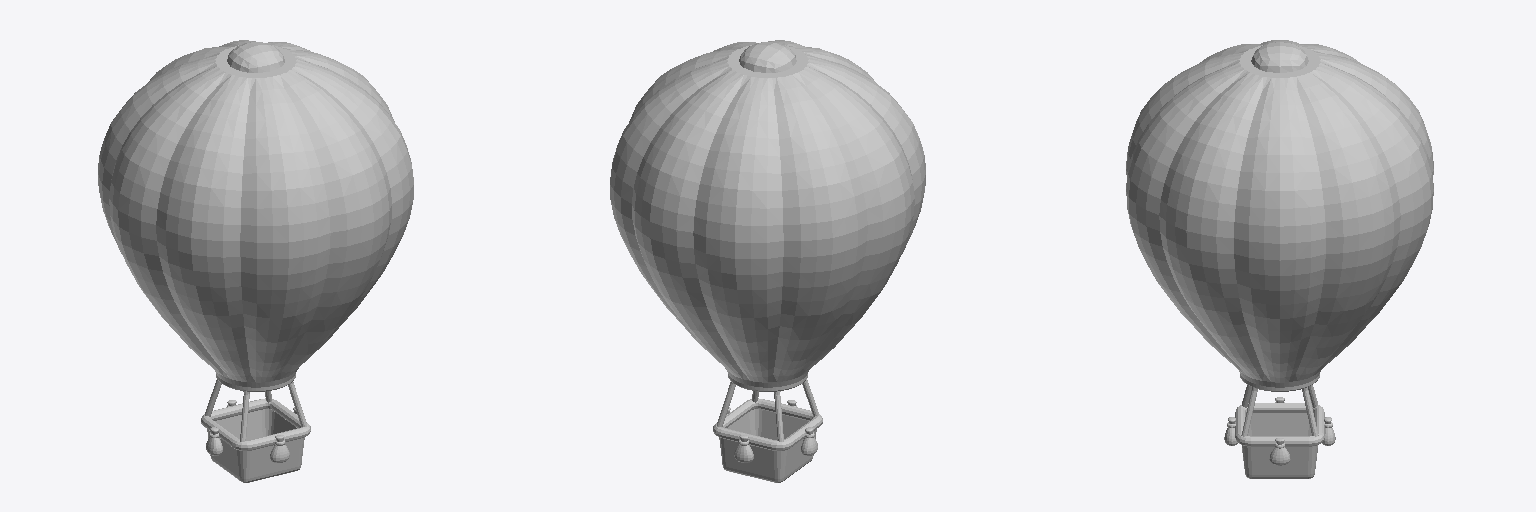
Rendered from airship.obj.
3 views of the same model, side by side, from view 1: azimuth 30°, elevation 25°; view 2: azimuth 150°, elevation 25°; view 3: azimuth 270°, elevation 25° (orthographic).
Visible parts, largest first — view 1: Object_TexMap_0; view 2: Object_TexMap_0; view 3: Object_TexMap_0.
Boxes of the visible parts, box(x1,y1,x2,y2) form: Object_TexMap_0: box(98, 40, 413, 482); Object_TexMap_0: box(610, 40, 925, 482); Object_TexMap_0: box(1126, 40, 1433, 478).
Bounding box in the file's own units: 1.71 × 2.5 × 1.66.